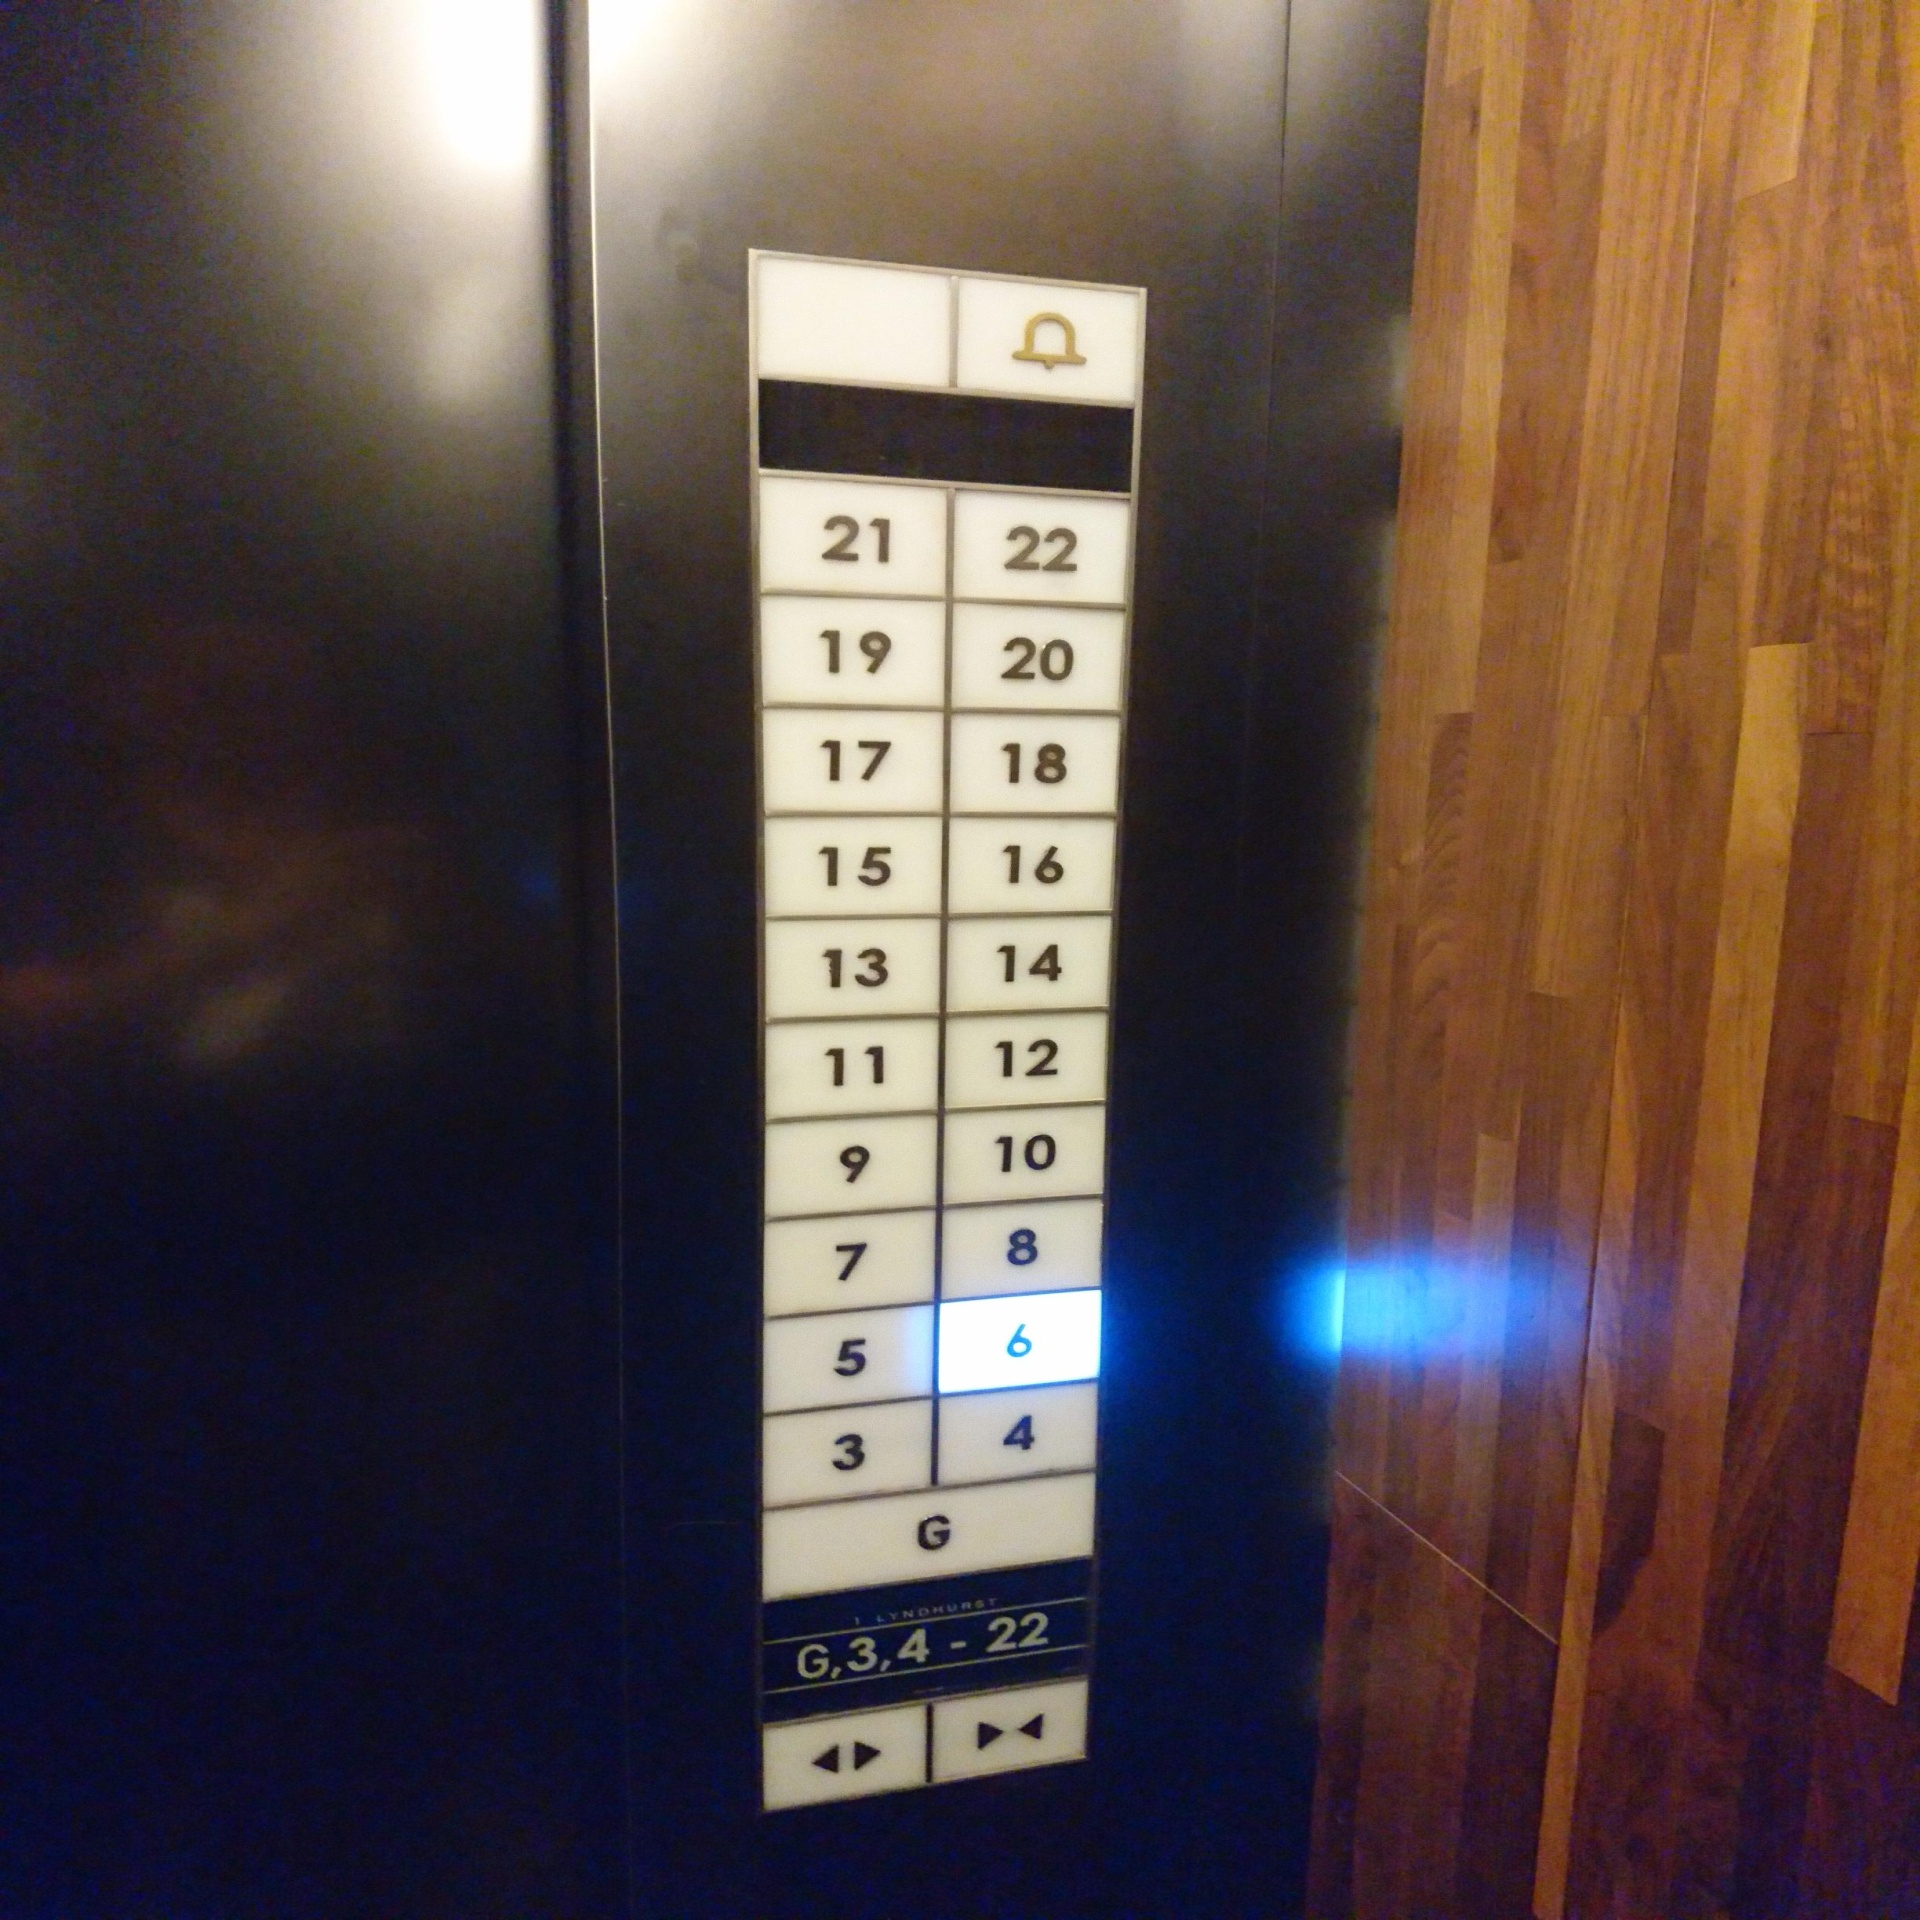10: (941, 1108, 1108, 1201)
11: (758, 1015, 944, 1129)
12: (939, 1013, 1109, 1108)
13: (758, 914, 948, 1023)
14: (939, 911, 1122, 1015)
15: (758, 811, 949, 921)
16: (942, 809, 1124, 920)
17: (751, 703, 948, 819)
18: (942, 705, 1122, 812)
19: (745, 587, 949, 702)
20: (944, 594, 1138, 712)
21: (749, 461, 958, 598)
22: (949, 480, 1136, 603)
3: (751, 1398, 939, 1512)
4: (934, 1384, 1109, 1493)
5: (754, 1305, 935, 1408)
6: (932, 1282, 1109, 1401)
7: (754, 1203, 944, 1322)
8: (937, 1196, 1111, 1306)
9: (756, 1106, 946, 1227)
G: (760, 1475, 1101, 1605)
alarm: (948, 264, 1153, 411)
close: (923, 1674, 1101, 1792)
empty: (738, 243, 969, 397)
open: (760, 1698, 932, 1813)
